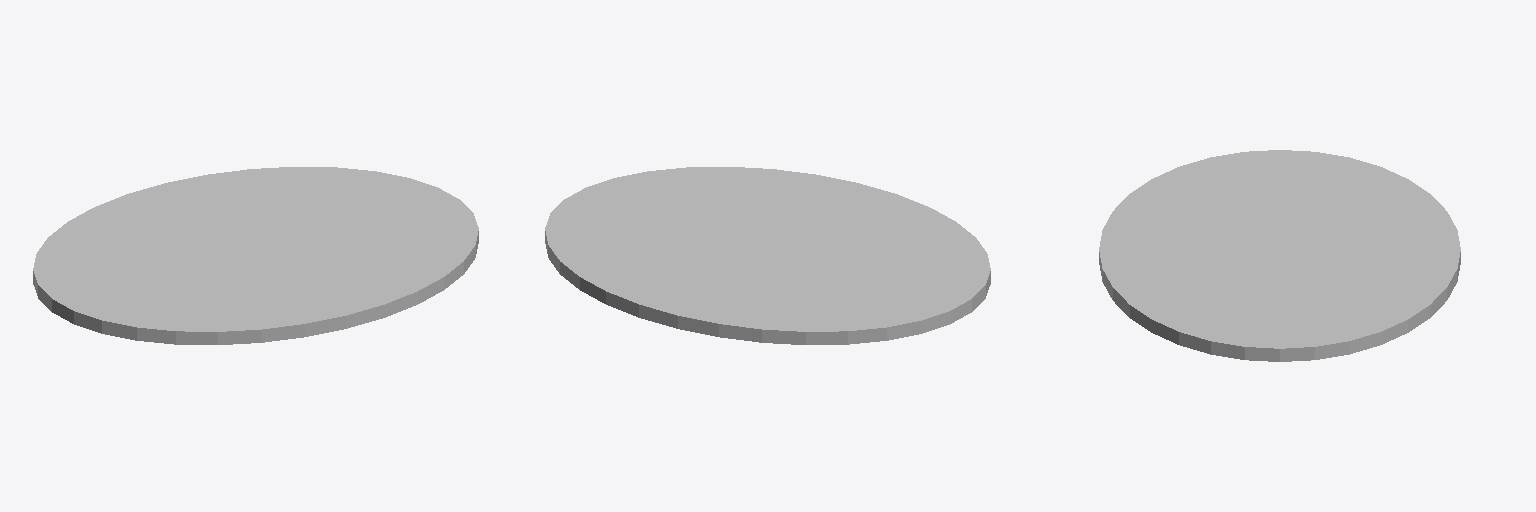
Rendered from floor2.obj.
3 views of the same model, side by side, from view 1: azimuth 30°, elevation 25°; view 2: azimuth 150°, elevation 25°; view 3: azimuth 270°, elevation 25° (orthographic).
Visible parts, largest first — view 1: Cylinder; view 2: Cylinder; view 3: Cylinder.
Part boxes in pixels (x1,y1,x2,y2): Cylinder: (33, 167, 478, 344); Cylinder: (545, 167, 990, 344); Cylinder: (1099, 150, 1460, 361).
Bounding box in the file's own units: 3.2 × 0.1 × 2.46.